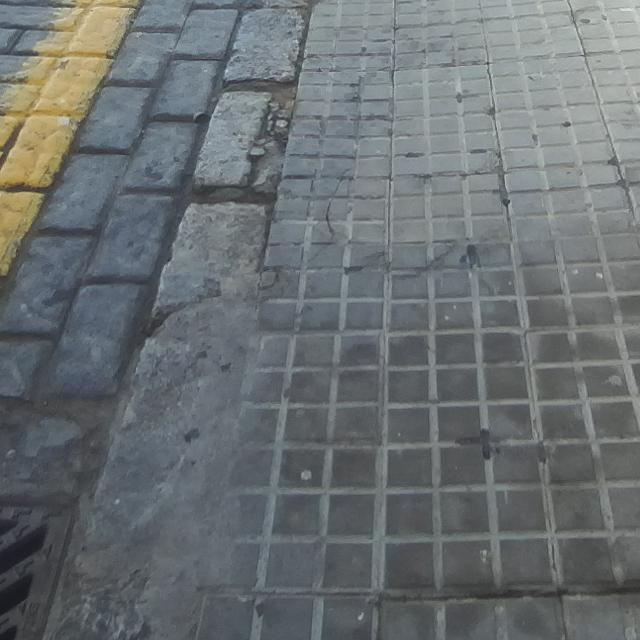calcada_quebrada: (306, 162, 357, 263), (414, 237, 464, 276)
